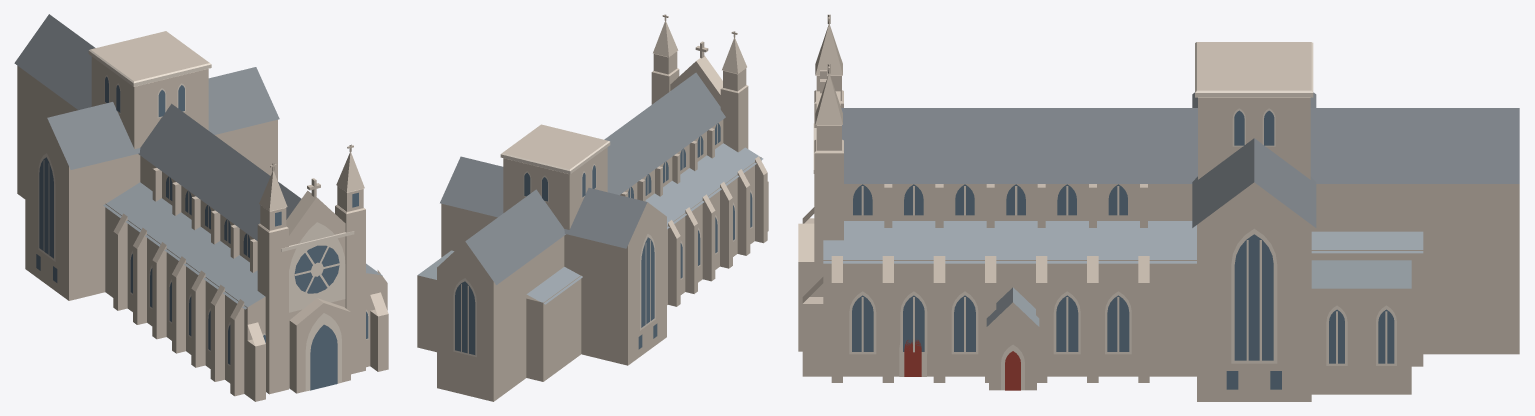
Rendered from det-cathedral-st-paul.glb.
3 renders of one model, left to right at view 1: azimuth 30°, elevation 25°; view 2: azimuth 150°, elevation 25°; view 3: azimuth 270°, elevation 25°, orthographic. The views are drawn at different scales.
Visible parts, largest first — view 1: Cathedral Church of St. Paul; view 2: Cathedral Church of St. Paul; view 3: Cathedral Church of St. Paul.
Part boxes in pixels (x1,y1,x2,y2): Cathedral Church of St. Paul: (14,14,388,401); Cathedral Church of St. Paul: (417,14,768,401); Cathedral Church of St. Paul: (798,14,1519,401).
Bounding box in the file's own units: 27.78 × 28.3 × 62.97.
